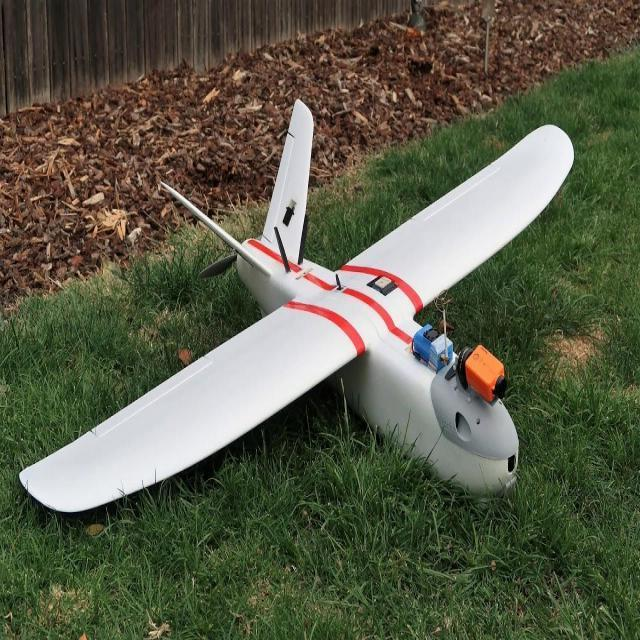iha: (0, 81, 630, 516)
